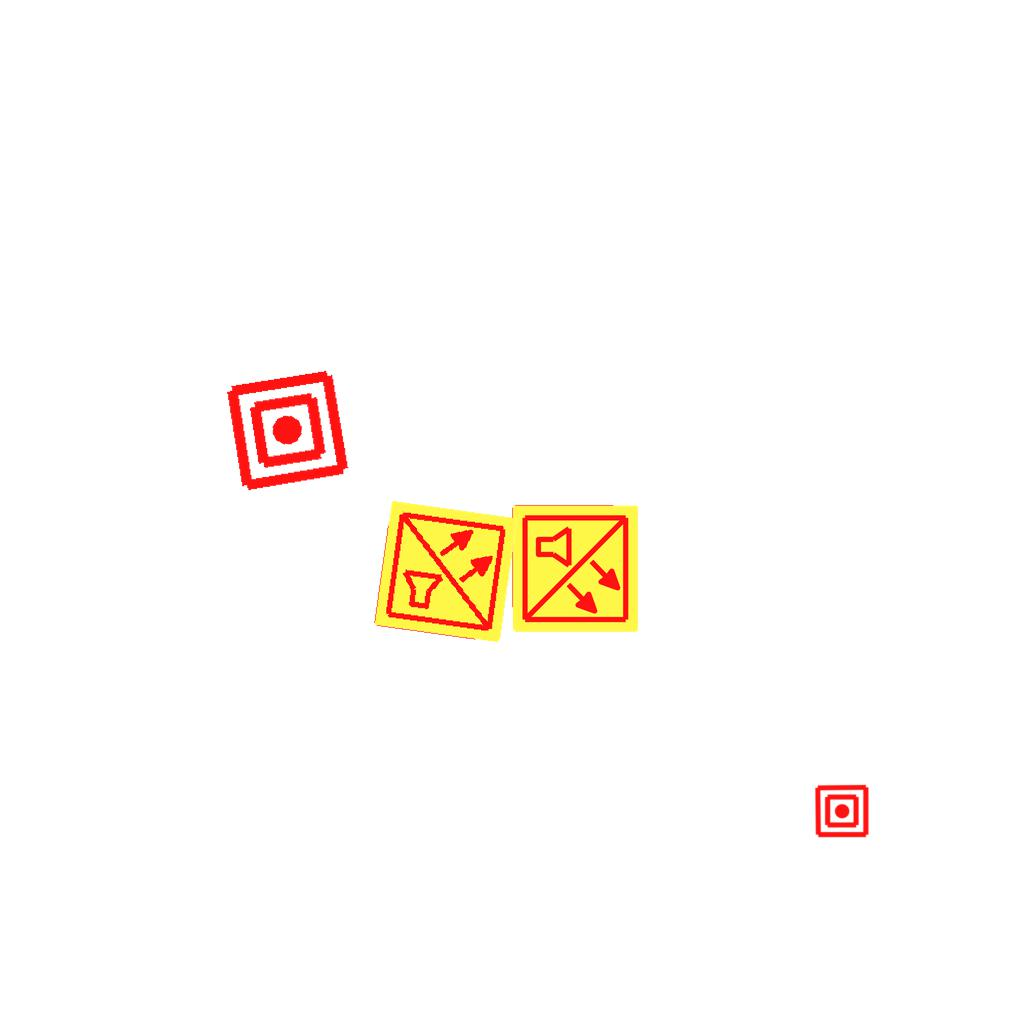NAM-Nichtautomatischer_Melder: (222, 365, 353, 496), (814, 783, 870, 839)
OKW_Multisensormelder_(Kombination_optischer_Rauch-Kahlenmonoxid_Waerme-Melder): (371, 497, 521, 647), (509, 503, 641, 635)
